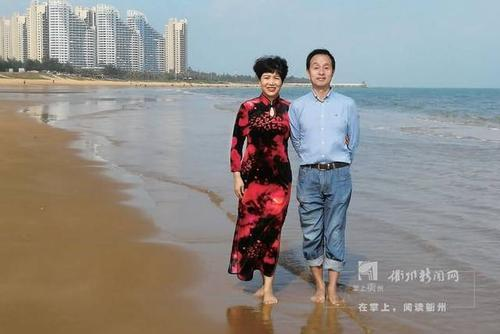up: (286, 46, 364, 311), (222, 50, 295, 307)
